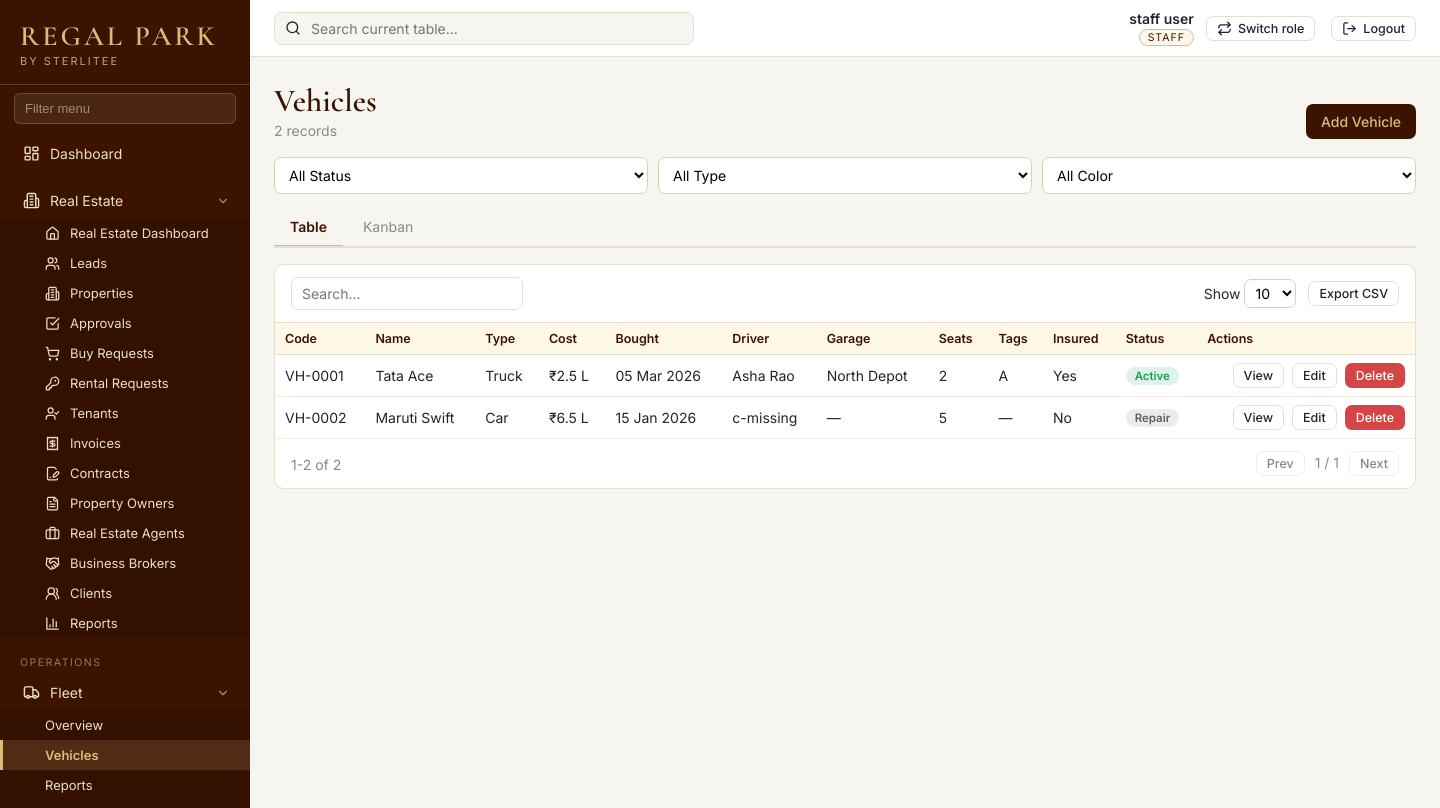
Test: ModuleTable › delete: confirm dialog -> DELETE; cancel -> nothing
Later steps or results of the test are not shown.
Check: the button "Logout" is shown, box [1331,16,1416,40]
Check: the text "Asha Rao" is shown, box [722,354,817,396]
What coordinates should you click on to do the following:
click the button "Delete" in the row of "VH-0001"
I would click on:
 (1375, 376)
Its box is [1345,363,1405,388].
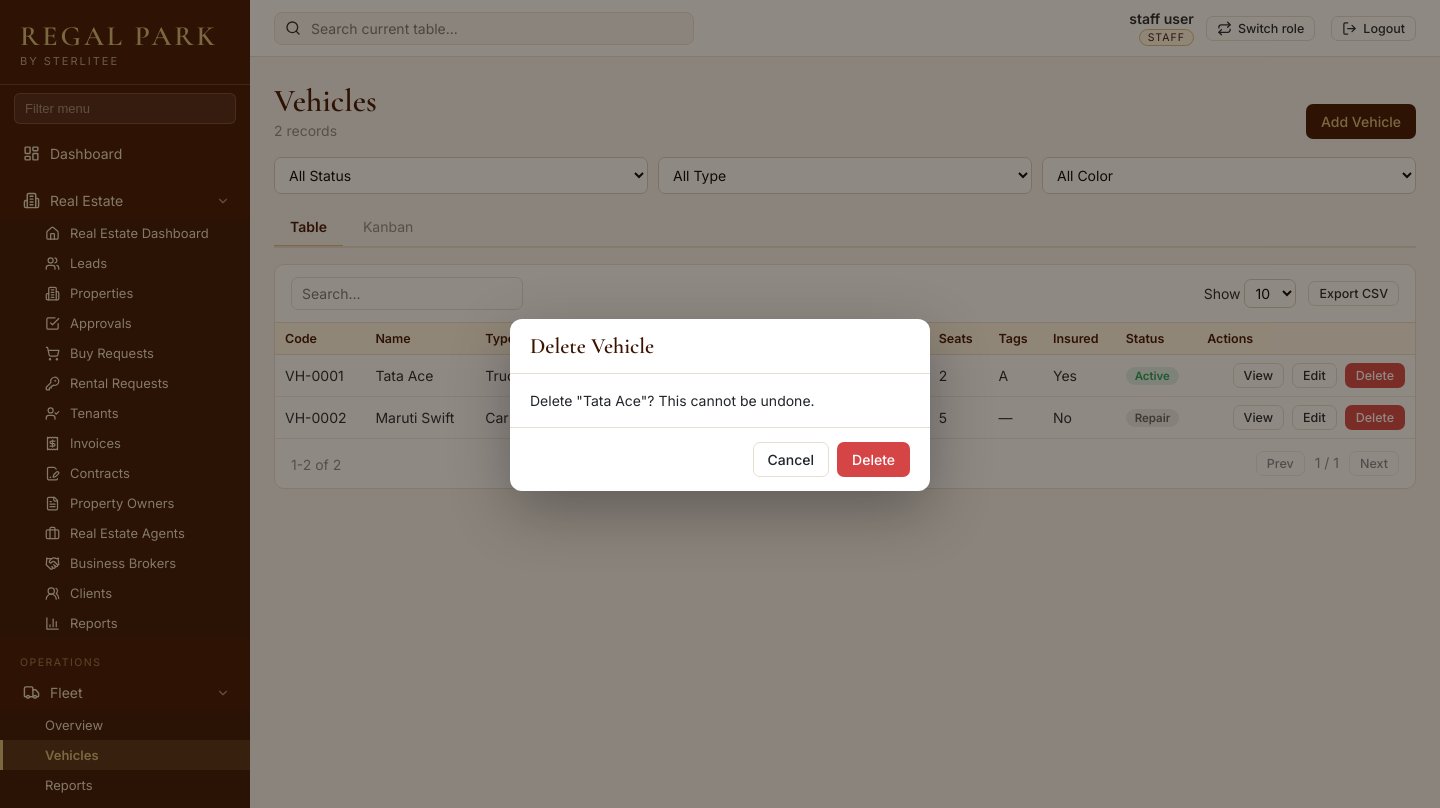
Check: the dialog shows "Delete \"Tata Ace\"?", box [530,392,815,409]
What coordinates should you click on to do the following:
click the button "Cancel"
I would click on:
 (791, 460)
Its box is [753,442,829,477].
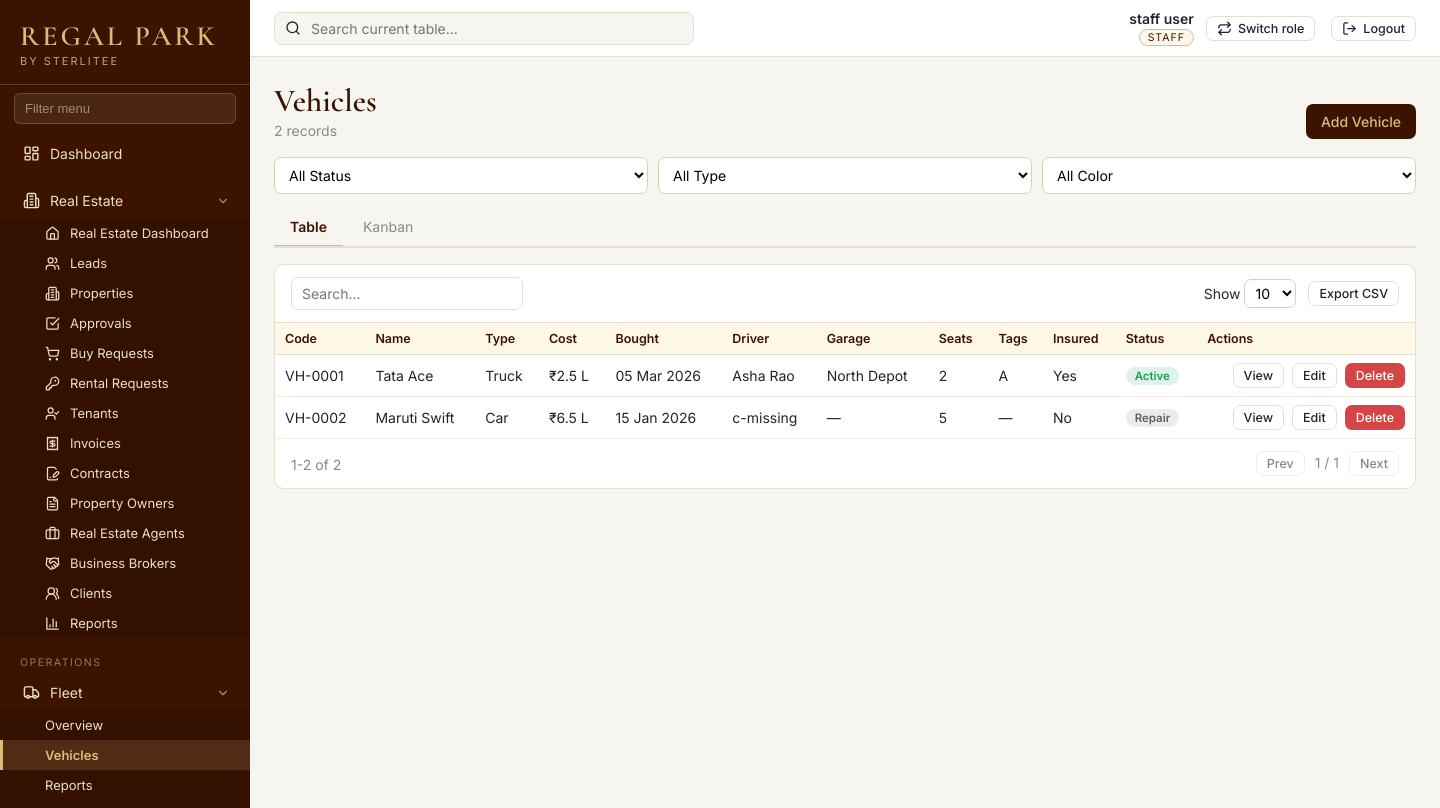
Check: the dialog is gone
